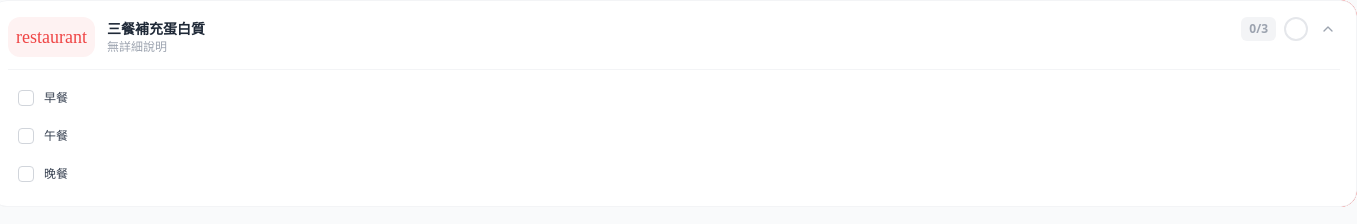
Scenario: TaskCard › checklist task — inline subtasks (2026-05-25 bug fix) › shows inline subtask list expanded by default; chevron collapses it
The image size is (1357, 224).
Expected: the text "早餐" is shown, x1=44 y1=90 x2=68 y2=106
Expected: the text "午餐" is shown, x1=44 y1=128 x2=68 y2=144
// Click chevron → collapse
Click the button named "收合子任務" at (1328, 29), box x1=1316 y1=17 x2=1340 y2=41
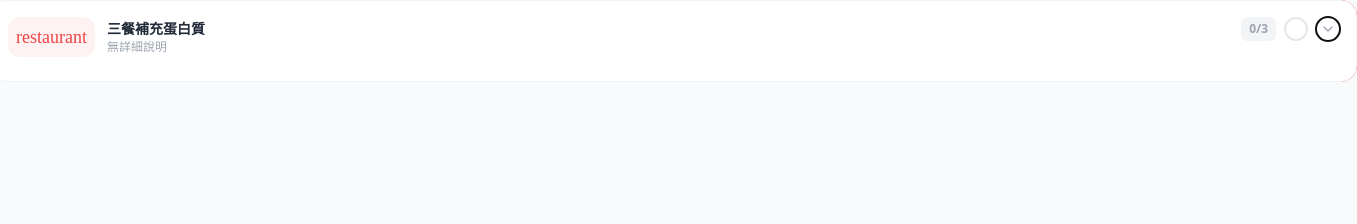
Expected: the button "早餐" is gone
